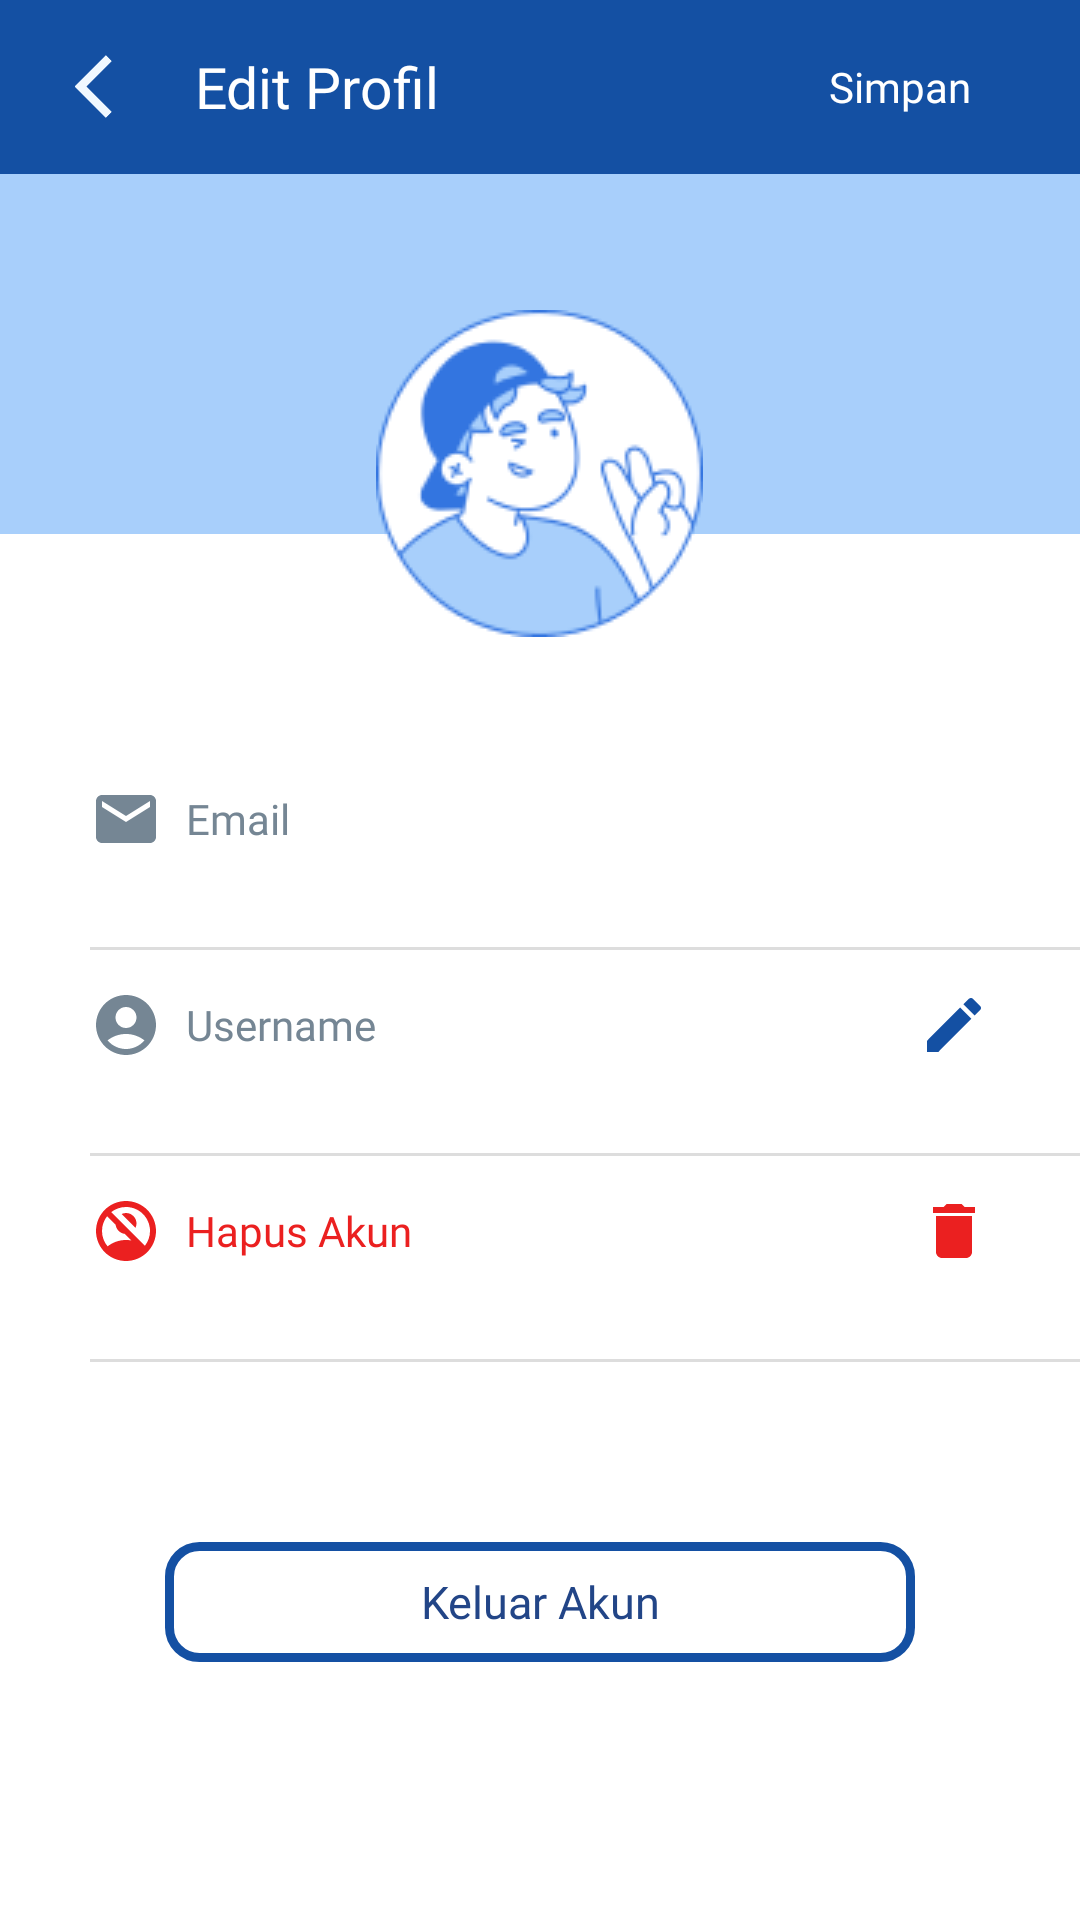

Where to tap for icons on this 1080 × 1920 app screen, as (x,y):
acc: (126,1025)
delete: (954,1231)
edit: (954,1025)
Kembali: (93,86)
profil: (539,473)
userdelete: (126,1231)
